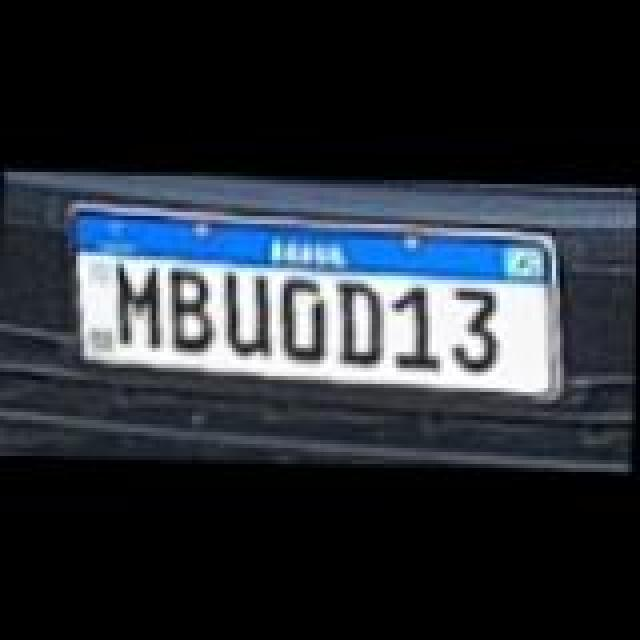1: (384, 282, 448, 370)
3: (444, 284, 508, 372)
B: (160, 262, 224, 350)
D: (270, 270, 338, 358), (328, 276, 392, 364)
M: (108, 260, 172, 352)
U: (214, 268, 282, 356)
